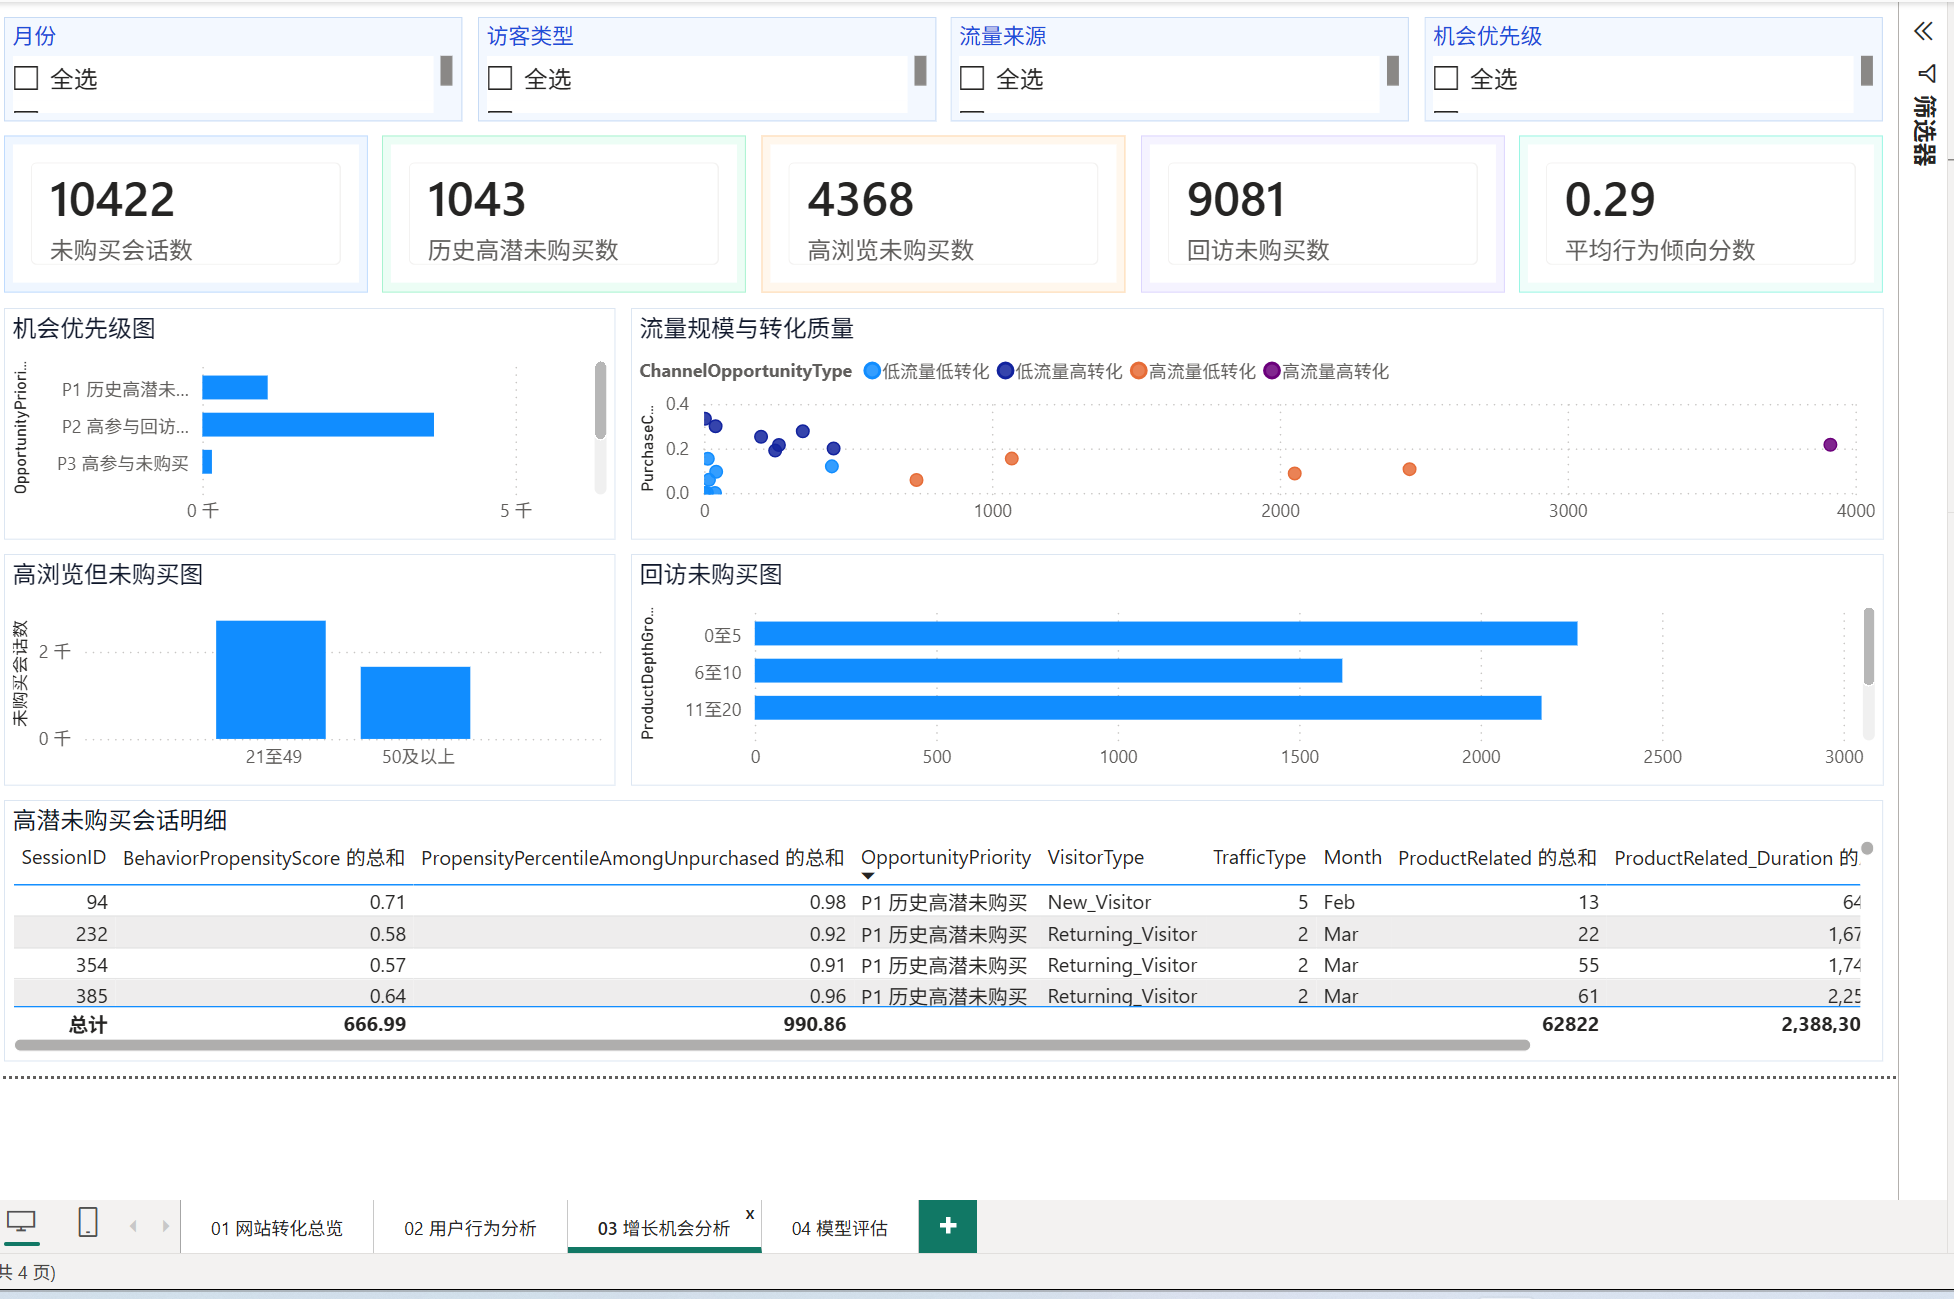

The page's visual inventory and layout, read from the dashboard file:
{"tool":"powerbi","page":{"name":"03 增长机会分析","canvas":[1280,720],"ordinal":2},"visuals":[{"type":"listSlicer","title":"月份","fields":{"Values":["vw_growth_opportunities.Month"]},"box":[10,0,275,90],"z":0},{"type":"listSlicer","title":"访客类型","fields":{"Values":["vw_growth_opportunities.VisitorType"]},"box":[285.7,5.7,354.3,84.3],"z":1000},{"type":"listSlicer","title":"流量来源","fields":{"Values":["vw_growth_opportunities.TrafficType"]},"box":[640,6,292,84],"z":2000},{"type":"listSlicer","title":"机会优先级","fields":{"Values":["vw_growth_opportunities.OpportunityPriority"]},"box":[932,6,348,84],"z":3000},{"type":"cardVisual","fields":{"Data":["vw_growth_opportunities.未购买会话数"]},"box":[0,90,225.4,124.6],"z":3001},{"type":"cardVisual","fields":{"Data":["vw_growth_opportunities.历史高潜未购买数"]},"box":[463.1,90,276.9,124.6],"z":3002},{"type":"cardVisual","fields":{"Data":["vw_growth_opportunities.高浏览未购买数"]},"box":[1007.7,90,272.3,124.6],"z":3003},{"type":"cardVisual","fields":{"Data":["vw_growth_opportunities.回访未购买数"]},"box":[225.4,90,256.9,124.6],"z":3004},{"type":"cardVisual","fields":{"Data":["vw_growth_opportunities.平均行为倾向分数"]},"box":[740,90,267.7,124.6],"z":3005},{"type":"clusteredBarChart","title":"机会优先级图","fields":{"Category":["vw_growth_opportunities.OpportunityPriority"],"Y":["vw_growth_opportunities.未购买会话数"]},"box":[0,215.6,462.2,160],"z":3006},{"type":"clusteredBarChart","title":"回访未购买图","fields":{"Category":["vw_growth_opportunities.ProductDepthGroup"],"Y":["vw_growth_opportunities.未购买会话数"]},"box":[462.2,375.6,696.7,167.8],"z":3007},{"type":"clusteredColumnChart","title":"高浏览但未购买图","fields":{"Category":["vw_growth_opportunities.ProductDepthGroup"],"Y":["vw_growth_opportunities.未购买会话数"]},"box":[0,375.6,450,160],"z":3008},{"type":"scatterChart","title":"流量规模与转化质量","fields":{"X":["vw_traffic_performance.SessionCount"],"Y":["vw_traffic_performance.PurchaseConversionRate"],"Series":["vw_traffic_performance.ChannelOpportunityType"]},"box":[462.2,197.8,696.7,170],"z":3009},{"type":"tableEx","fields":{"Values":["vw_growth_opportunities.SessionID","Sum(vw_growth_opportunities.BehaviorPropensityScore)","Sum(vw_growth_opportunities.PropensityPercentileAmongUnpurchased)","vw_growth_opportunities.OpportunityPriority","vw_growth_opportunities.VisitorType","vw_growth_opportunities.TrafficType","vw_growth_opportunities.Month","Sum(vw_growth_opportunities.ProductRelated)","Sum(vw_growth_opportunities.ProductRelated_Duration)","Sum(vw_growth_opportunities.BounceRates)","Sum(vw_growth_opportunities.ExitRates)"]},"box":[0,535.6,1280,184.4],"z":3010}]}

Visuals, with their boxes on the page's 1280x720 design canvas (x1, y1, x2, y2). These are canvas units, not pixel positions in the 1954x1299 screenshot, which may show the page scaled, cropped or inside an application window:
"月份" listSlicer: l=10, t=0, r=285, b=90
"访客类型" listSlicer: l=286, t=6, r=640, b=90
"流量来源" listSlicer: l=640, t=6, r=932, b=90
"机会优先级" listSlicer: l=932, t=6, r=1280, b=90
cardVisual - vw_growth_opportunities.未购买会话数: l=0, t=90, r=225, b=215
cardVisual - vw_growth_opportunities.历史高潜未购买数: l=463, t=90, r=740, b=215
cardVisual - vw_growth_opportunities.高浏览未购买数: l=1008, t=90, r=1280, b=215
cardVisual - vw_growth_opportunities.回访未购买数: l=225, t=90, r=482, b=215
cardVisual - vw_growth_opportunities.平均行为倾向分数: l=740, t=90, r=1008, b=215
"机会优先级图" clusteredBarChart: l=0, t=216, r=462, b=376
"回访未购买图" clusteredBarChart: l=462, t=376, r=1159, b=543
"高浏览但未购买图" clusteredColumnChart: l=0, t=376, r=450, b=536
"流量规模与转化质量" scatterChart: l=462, t=198, r=1159, b=368
tableEx - vw_growth_opportunities.SessionID x Sum(vw_growth_opportunities.BehaviorPropensityScore): l=0, t=536, r=1280, b=720
